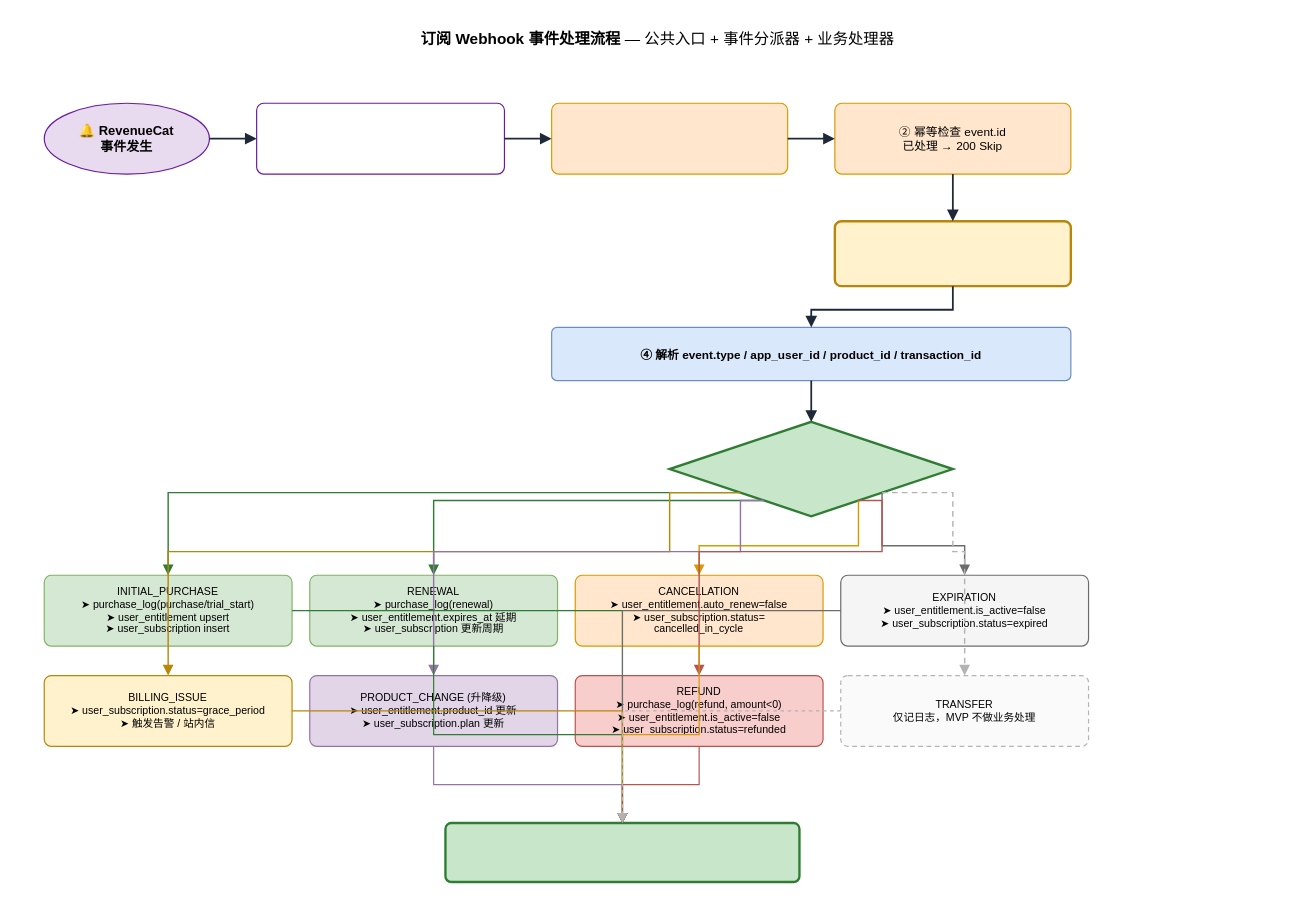
The diagram is 1315 pixels wide and 903 high, and some of its shapes have lost their labels. Here are the shapes that lost their labels. From the top down, the centre of each, then its label:
At point 379,138: "POST /api/v1/revenuecat/webhook Authorization: Bearer xxx".
At point 669,138: "① 校验 Authorization 失败 → 401 + 告警".
At point 952,253: "③ INSERT rc_webhook_events （PRD-1 已建，全量原始事件）".
At point 810,468: "⑤ 事件类型分派器 switch(eventType)".
At point 622,852: "⑥ 标记 event.id 已处理 返回 200 OK".
